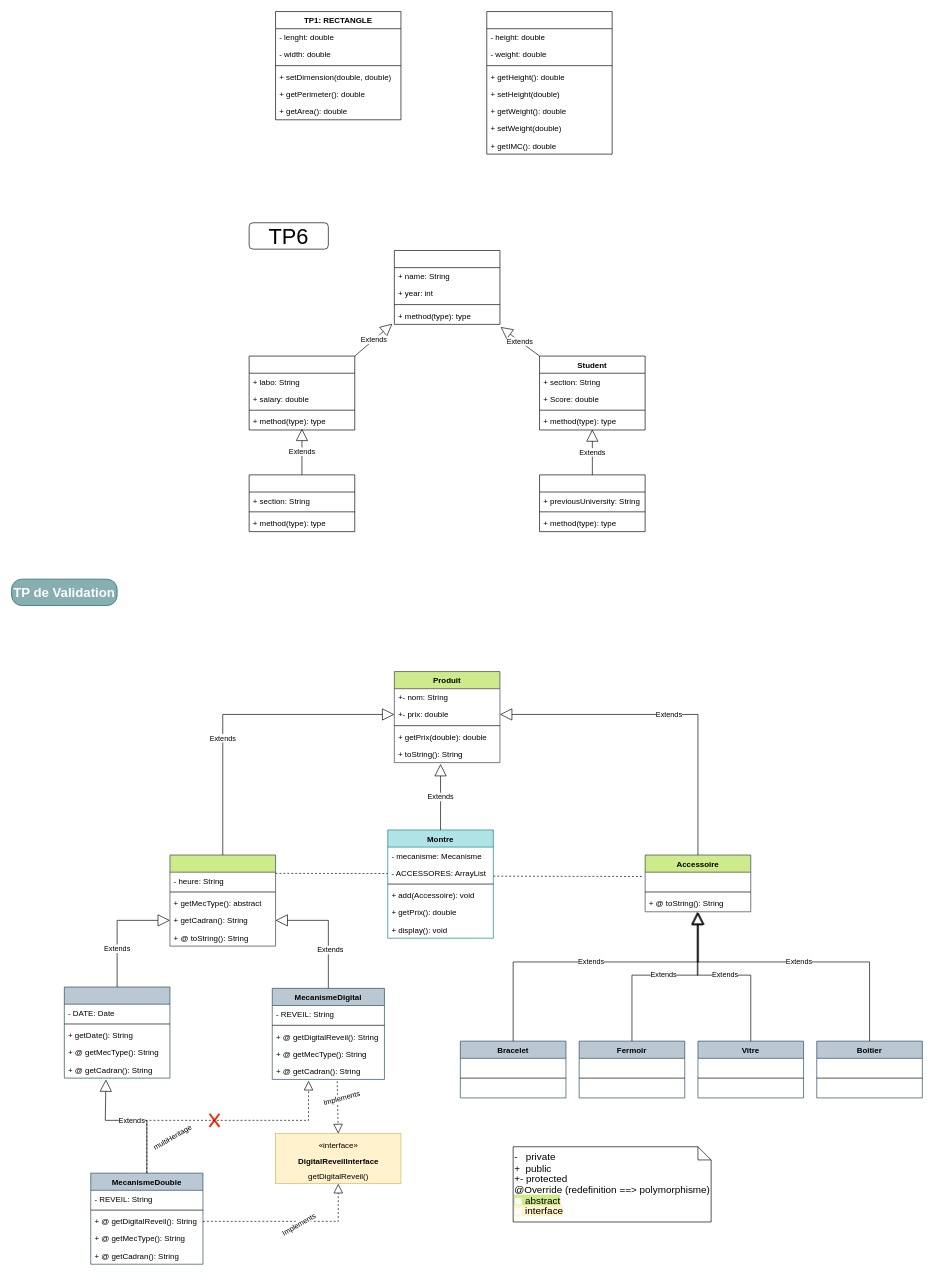
This 934x1278 diagram has some shape labels left out. The box of each missing label's shape, as (x1, y1, x2, y2) in pixels:
ExchangeStudent: (539, 474, 645, 532)
Mecanisme: (169, 854, 276, 946)
MecanismeAnalogique: (64, 986, 170, 1078)
Professor: (248, 474, 355, 532)
Secretary: (248, 355, 355, 430)
TP2: PATIENT: (486, 11, 612, 154)
University: (394, 250, 500, 324)
